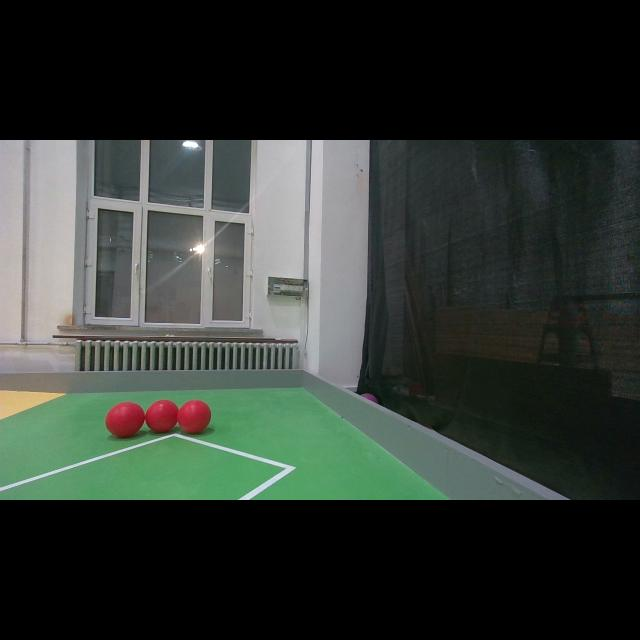R: (106, 402, 144, 438), (144, 401, 180, 434), (177, 400, 211, 434)
